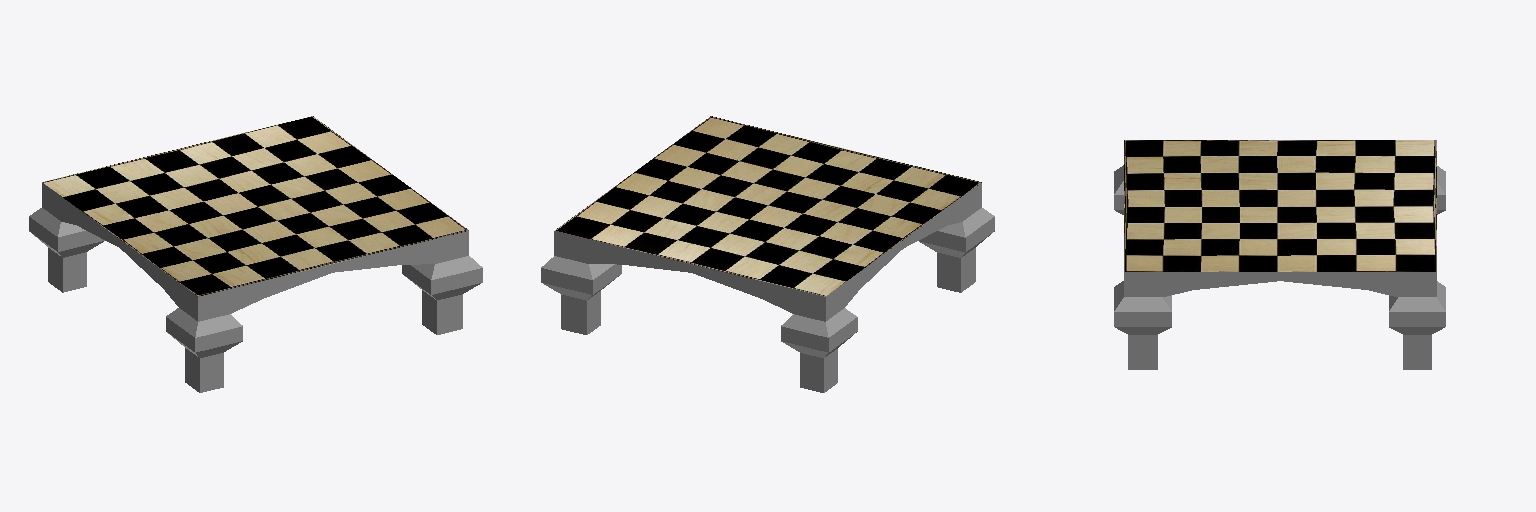
3 renders of one model, left to right at view 1: azimuth 30°, elevation 25°; view 2: azimuth 150°, elevation 25°; view 3: azimuth 270°, elevation 25°, orthographic.
Visible parts, largest first — view 1: Cube; view 2: Cube; view 3: Cube.
Part boxes in pixels (x1,y1,x2,y2): Cube: (29,116,482,392); Cube: (541,116,994,392); Cube: (1114,140,1445,369).
Size of the model in its own units: 8.41 by 2.77 by 8.42.
2 materials, 1 textured.